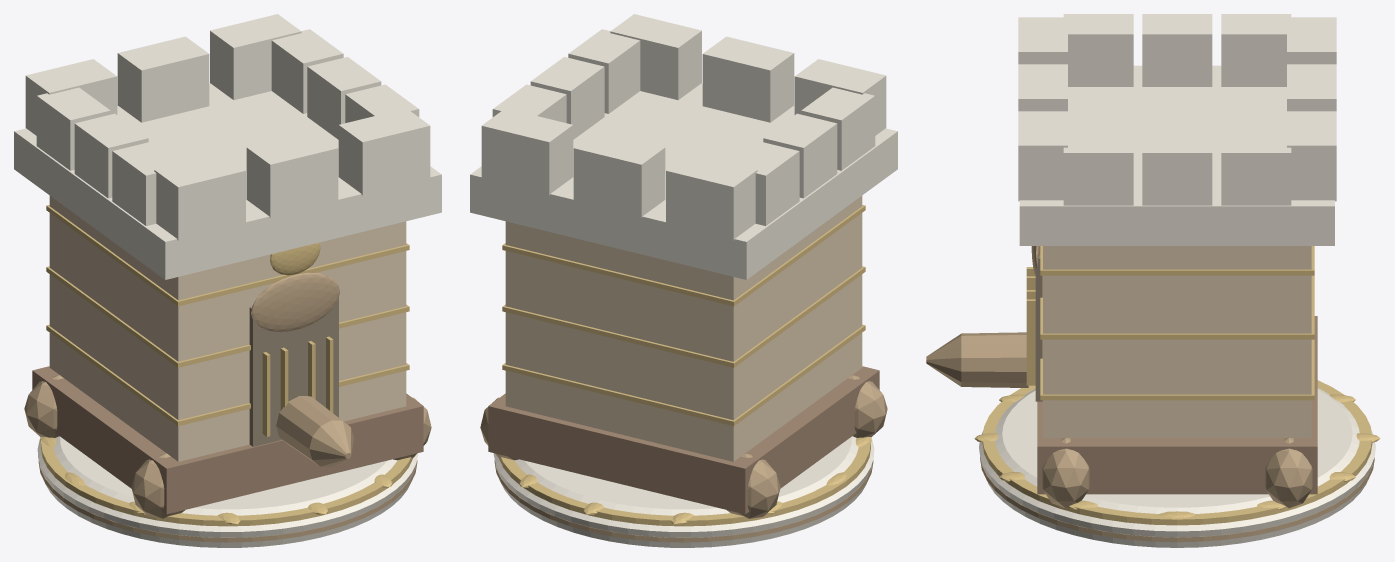
The picture shows the model from 3 angles, left to right: view 1: azimuth 30°, elevation 25°; view 2: azimuth 150°, elevation 25°; view 3: azimuth 270°, elevation 25°; orthographic projection. The views are drawn at different scales.
Visible parts, largest first — view 1: Durg_Bastion, Durg_Bastion_Parapet, Durg_SiegeCarriage, Plinth_Stone, Durg_Crenel_1_1, Durg_Crenel_1_0, Durg_GateRecess, Durg_Crenel_-1_0, Durg_Crenel_1_-1, Durg_Crenel_-1_1, Plinth_GoldRim, Durg_GateArch (+18 smaller); view 2: Durg_Bastion, Durg_Bastion_Parapet, Durg_SiegeCarriage, Plinth_Stone, Durg_Crenel_-1_1, Durg_Crenel_-1_0, Durg_Crenel_1_0, Durg_Crenel_-1_-1, Durg_Crenel_1_1, Plinth_GoldRim, Durg_SideMerlon_-1_-1, Durg_SideMerlon_-1_0 (+11 smaller); view 3: Durg_Bastion, Durg_Bastion_Parapet, Plinth_Stone, Durg_SiegeCarriage, Plinth_GoldRim, Durg_SideMerlon_1_0, Durg_SideMerlon_-1_0, Durg_SideMerlon_1_-1, Durg_SideMerlon_1_1, Durg_SideMerlon_-1_-1, Durg_SideMerlon_-1_1, Durg_Ram (+14 smaller).
Part boxes in pixels (left/top/right/bottom): Durg_Bastion: left=49, top=196, right=406, bottom=461; Durg_Bastion_Parapet: left=14, top=83, right=441, bottom=279; Durg_SiegeCarriage: left=32, top=366, right=423, bottom=514; Plinth_Stone: left=37, top=436, right=418, bottom=547; Durg_Crenel_1_1: left=338, top=108, right=430, bottom=195; Durg_Crenel_1_0: left=246, top=131, right=338, bottom=217; Durg_GateRecess: left=249, top=289, right=338, bottom=446; Durg_Crenel_-1_0: left=117, top=36, right=209, bottom=122; Durg_Crenel_1_-1: left=154, top=153, right=245, bottom=240; Durg_Crenel_-1_1: left=210, top=14, right=301, bottom=99; Plinth_GoldRim: left=41, top=438, right=412, bottom=526; Durg_GateArch: left=251, top=272, right=339, bottom=331; Durg_Bastion: left=505, top=196, right=862, bottom=461; Durg_Bastion_Parapet: left=470, top=83, right=897, bottom=279; Durg_SiegeCarriage: left=488, top=366, right=879, bottom=514; Plinth_Stone: left=493, top=436, right=874, bottom=547; Durg_Crenel_-1_1: left=481, top=108, right=573, bottom=195; Durg_Crenel_-1_0: left=573, top=131, right=665, bottom=217; Durg_Crenel_1_0: left=702, top=36, right=794, bottom=122; Durg_Crenel_-1_-1: left=666, top=153, right=757, bottom=240; Durg_Crenel_1_1: left=610, top=14, right=701, bottom=99; Plinth_GoldRim: left=499, top=438, right=870, bottom=526; Durg_SideMerlon_-1_-1: left=730, top=141, right=799, bottom=225; Durg_SideMerlon_-1_0: left=763, top=113, right=837, bottom=198; Durg_Bastion: left=1043, top=246, right=1311, bottom=437; Durg_Bastion_Parapet: left=1019, top=65, right=1334, bottom=245; Plinth_Stone: left=979, top=388, right=1375, bottom=547; Durg_SiegeCarriage: left=1037, top=316, right=1317, bottom=494; Plinth_GoldRim: left=982, top=380, right=1372, bottom=525; Durg_SideMerlon_1_0: left=1142, top=132, right=1212, bottom=205; Durg_SideMerlon_-1_0: left=1142, top=14, right=1212, bottom=86; Durg_SideMerlon_1_-1: left=1221, top=132, right=1291, bottom=205; Durg_SideMerlon_1_1: left=1063, top=132, right=1133, bottom=205; Durg_SideMerlon_-1_-1: left=1221, top=14, right=1291, bottom=86; Durg_SideMerlon_-1_1: left=1063, top=14, right=1133, bottom=86; Durg_Ram: left=926, top=332, right=1028, bottom=387.
Size of the model in its own units: 0.68 by 0.7265 by 0.778.
